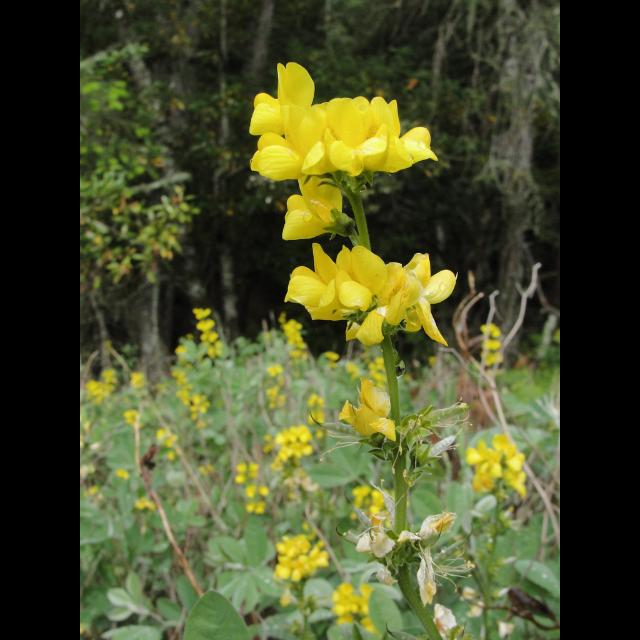Flower: (249, 60, 441, 244), (284, 229, 461, 343)
